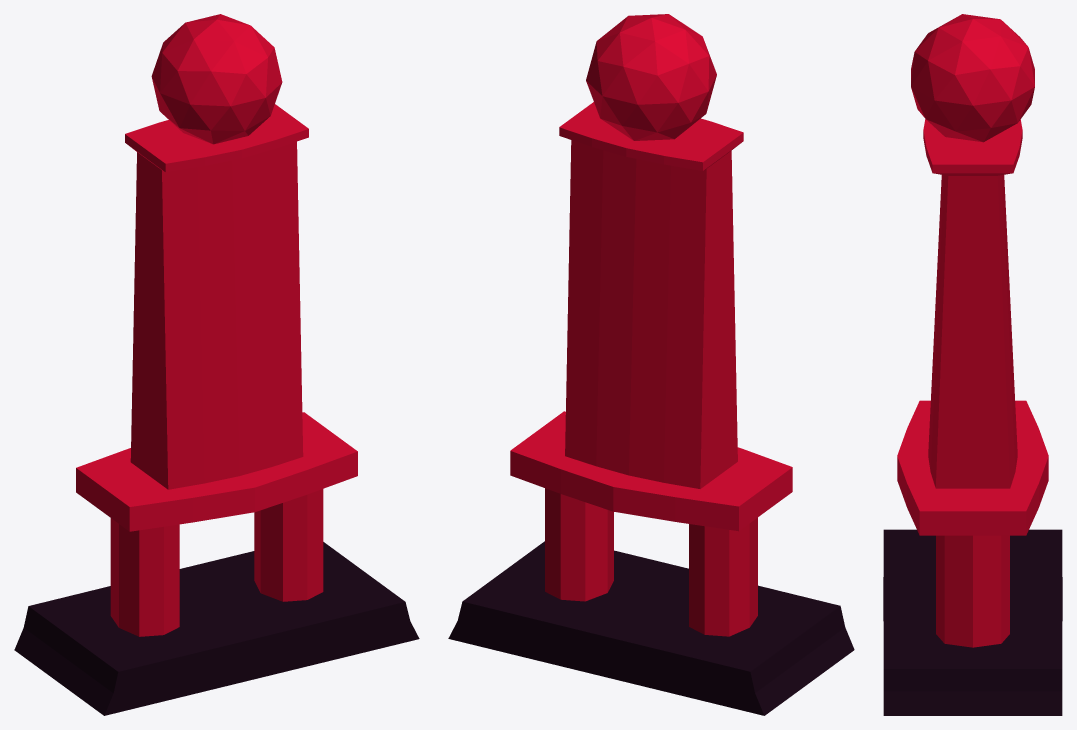
Rendered from Trophy_01.fbx.
3 views of the same model, side by side, from view 1: azimuth 30°, elevation 25°; view 2: azimuth 150°, elevation 25°; view 3: azimuth 270°, elevation 25° (orthographic).
Parts seen in each view (by area): view 1: Trophy_01; view 2: Trophy_01; view 3: Trophy_01.
Part boxes in pixels (x1,y1,x2,y2): Trophy_01: (14, 14, 419, 715); Trophy_01: (448, 14, 854, 715); Trophy_01: (883, 14, 1062, 715).
Bounding box in the file's own units: 5.21 × 9.86 × 2.58.
